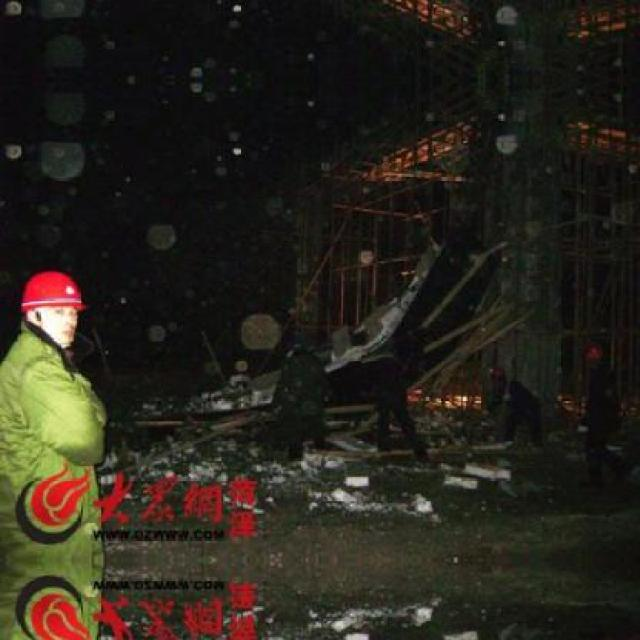helmet: (15, 264, 90, 348)
